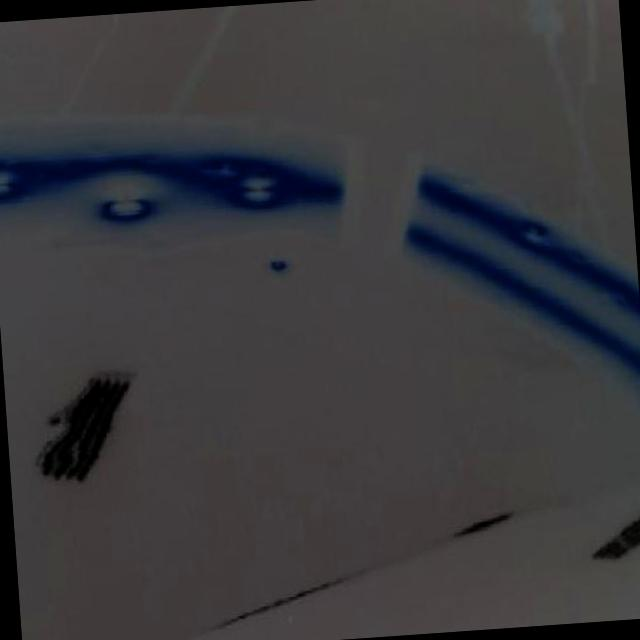dent: (97, 191, 157, 226), (238, 168, 280, 206), (197, 156, 237, 182), (520, 218, 548, 243), (0, 163, 21, 196), (264, 253, 291, 278)
